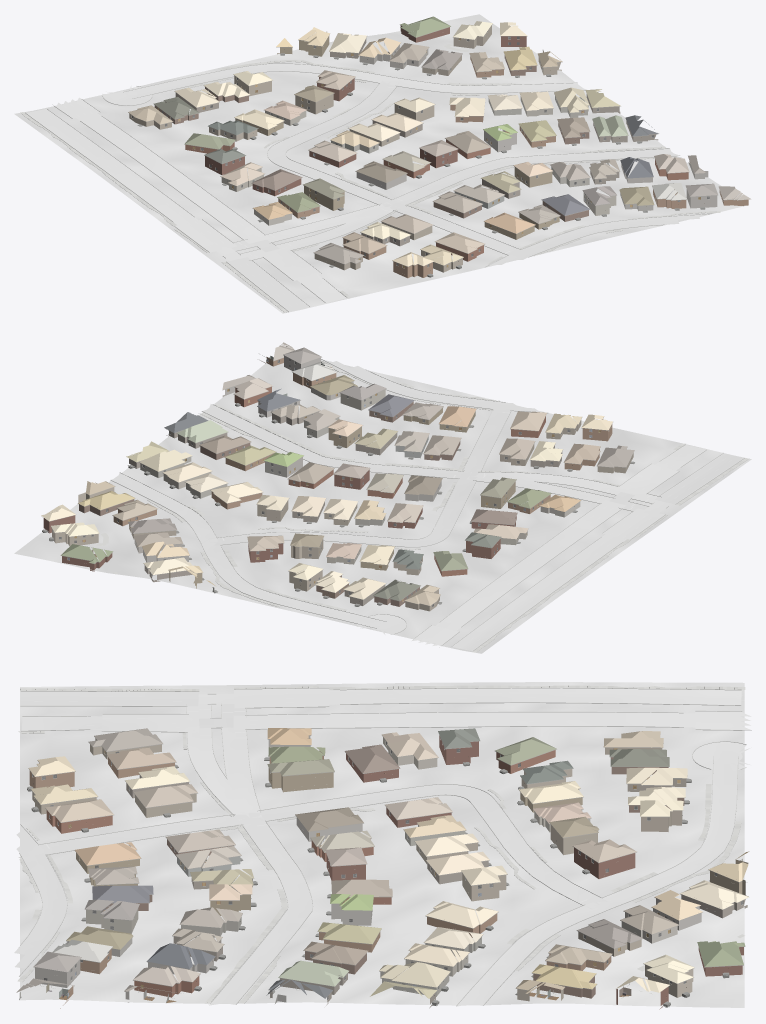
The picture shows the model from 3 angles, top to bottom: view 1: azimuth 30°, elevation 25°; view 2: azimuth 150°, elevation 25°; view 3: azimuth 270°, elevation 25°; orthographic projection. The views are drawn at different scales.
Parts seen in each view (by area): view 1: ground, roof, concrete, wall, asphalt, curb, detail, walk, wall_stucco, wall_stone, glass, mark_w; view 2: ground, roof, concrete, wall, asphalt, curb, detail, walk, wall_stucco, wall_stone, mark_w, glass; view 3: ground, roof, concrete, asphalt, wall, curb, walk, detail, wall_stucco, wall_stone, mark_w, room (+2 smaller).
Part boxes in pixels (x1,y1,x2,y2): ground: (14,14,745,313); roof: (128,16,751,266); concrete: (103,64,699,264); wall: (129,26,748,278); asphalt: (26,97,346,311); curb: (22,61,713,311); detail: (128,24,745,277); walk: (20,34,720,312); wall_stucco: (209,25,616,225); wall_stone: (356,44,717,211); glass: (132,28,723,266); mark_w: (26,86,509,311); ground: (14,359,751,653); roof: (41,342,634,605); concrete: (111,361,658,634); wall: (43,357,633,611); asphalt: (412,445,743,650); curb: (110,359,746,650); detail: (42,346,634,606); walk: (96,361,748,652); wall_stucco: (52,389,580,575); wall_stone: (143,356,441,562); mark_w: (222,412,743,650); glass: (59,359,608,606); ground: (20,682,744,1007); roof: (16,728,749,998); concrete: (14,702,751,1006); asphalt: (20,688,751,732); wall: (29,735,748,1009); curb: (19,687,751,1006); walk: (17,685,745,1003); detail: (19,731,745,1007); wall_stucco: (86,736,693,1001); wall_stone: (35,817,701,1002); mark_w: (22,688,747,902); room: (46,748,680,1003).
Bounding box in the file's own units: 257 × 14.77 × 254.
